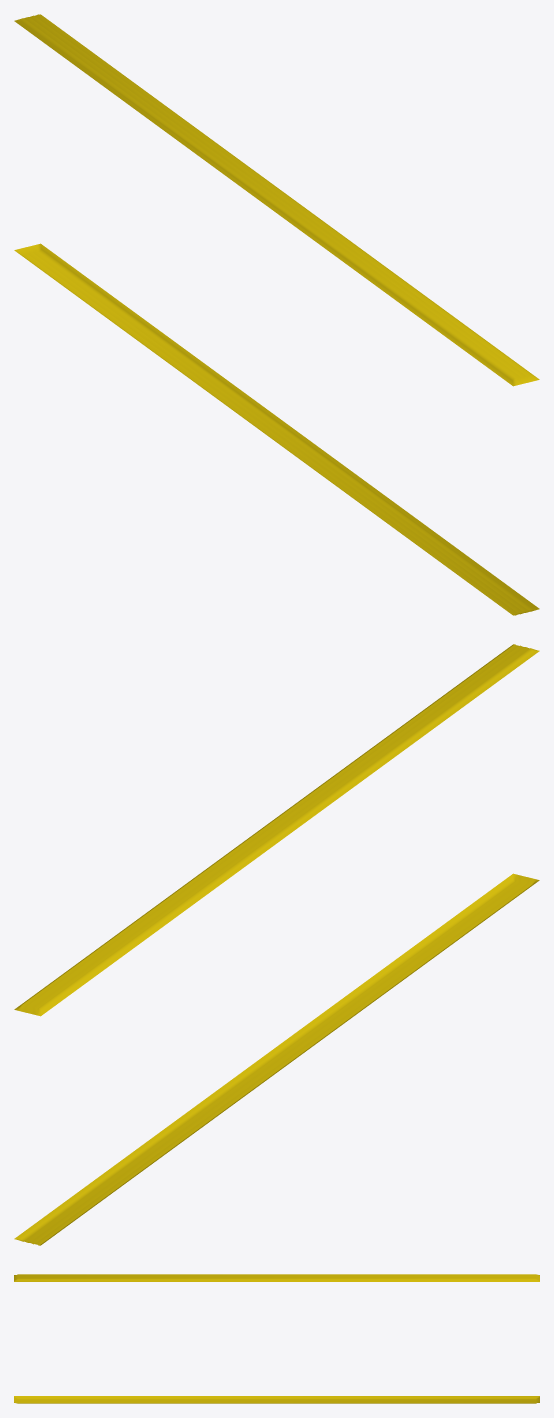
Rendered from MOD_FUR_Bathroom_cabinet_lamps_01.fbx.
3 renders of one model, top to bottom at view 1: azimuth 30°, elevation 25°; view 2: azimuth 150°, elevation 25°; view 3: azimuth 270°, elevation 25°, orthographic. The views are drawn at different scales.
Parts seen in each view (by area): view 1: HSHP_MOD_Bathroom_cabinet_lamps_01; view 2: HSHP_MOD_Bathroom_cabinet_lamps_01; view 3: HSHP_MOD_Bathroom_cabinet_lamps_01.
Part boxes in pixels (left/top/right/bottom): HSHP_MOD_Bathroom_cabinet_lamps_01: left=14, top=14, right=539, bottom=615; HSHP_MOD_Bathroom_cabinet_lamps_01: left=14, top=644, right=539, bottom=1245; HSHP_MOD_Bathroom_cabinet_lamps_01: left=14, top=1274, right=539, bottom=1403.
Bounding box in the file's own units: 0.0844 × 0.7151 × 2.72.
